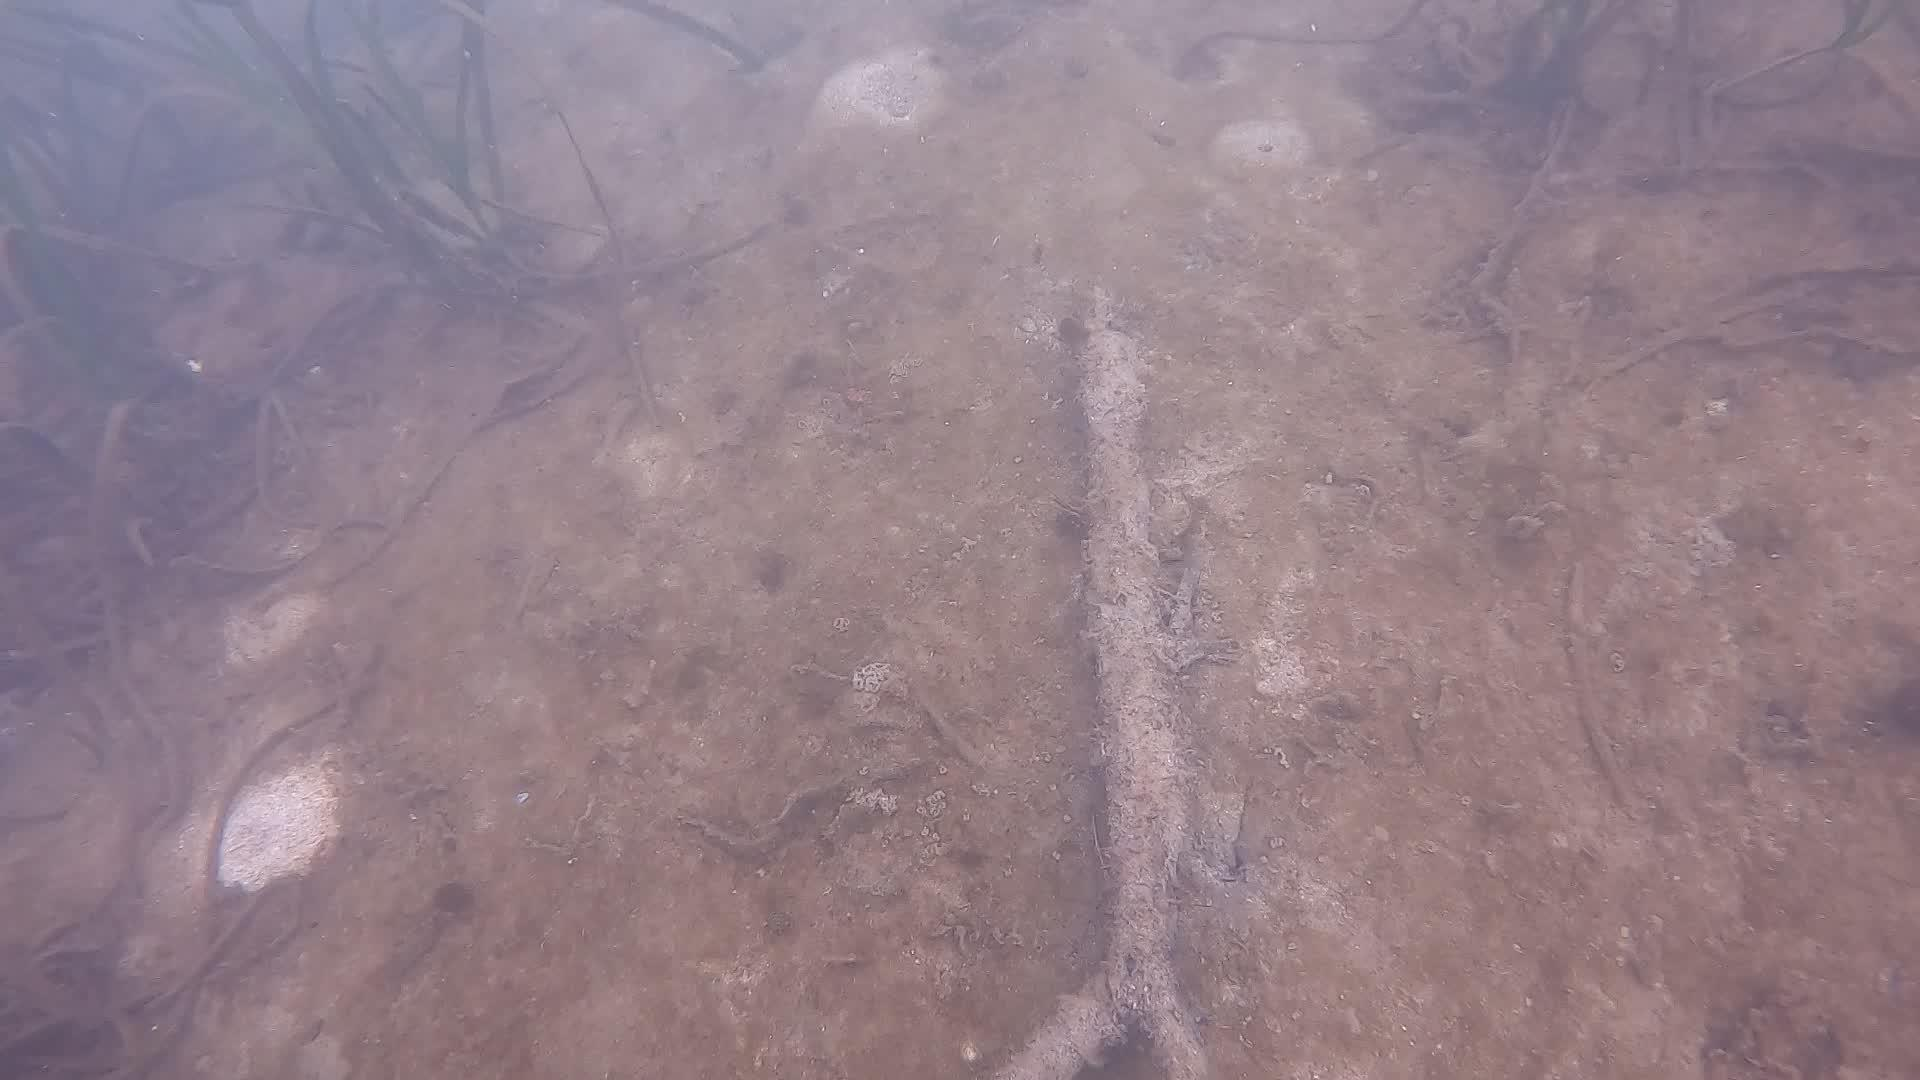wood: (975, 282, 1216, 1080)
